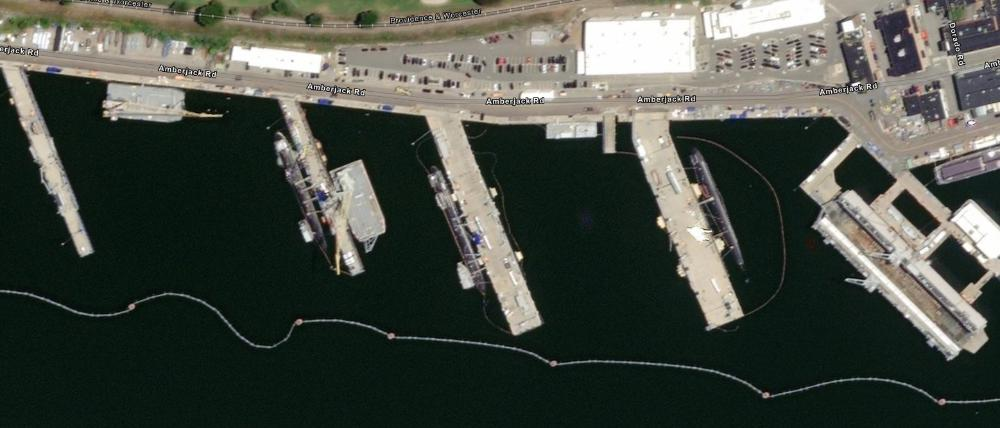submarine: (685, 144, 764, 306), (268, 129, 351, 277), (424, 162, 496, 313)
